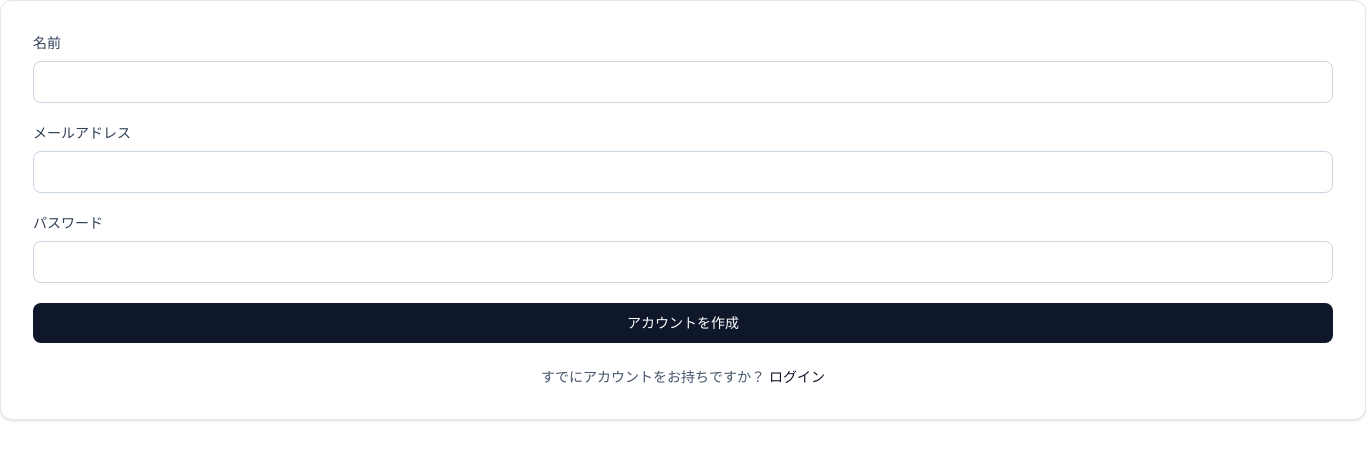
Test: RegisterForm › 無効なメールアドレスを拒否する
Type "テストユーザー" into the field labelled "名前" at (683, 82), box [33,61,1333,103]
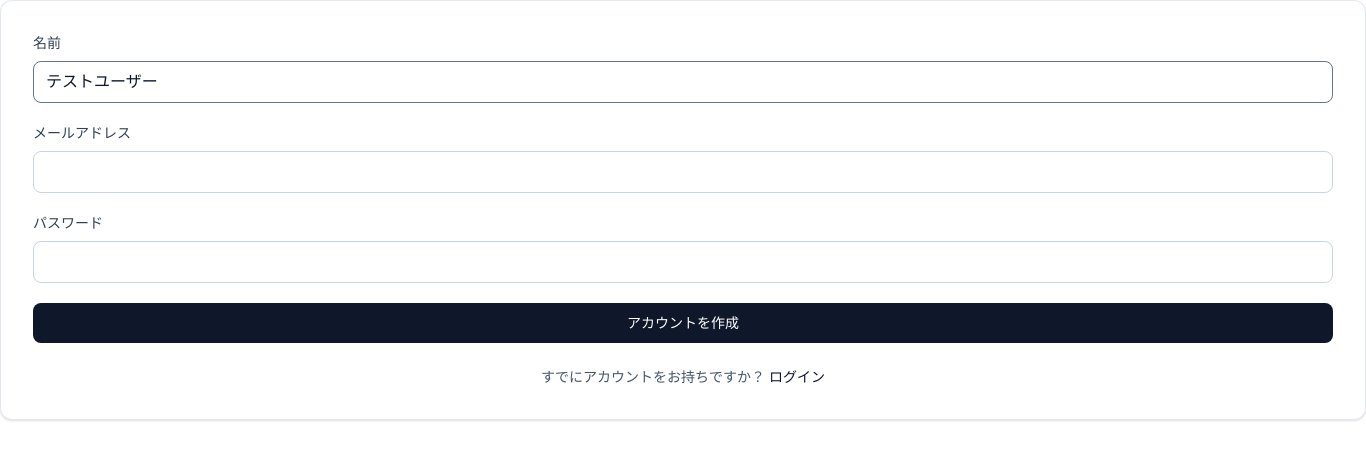
Type "invalid-email" into the field labelled "メールアドレス" at (683, 172), box [33,151,1333,193]
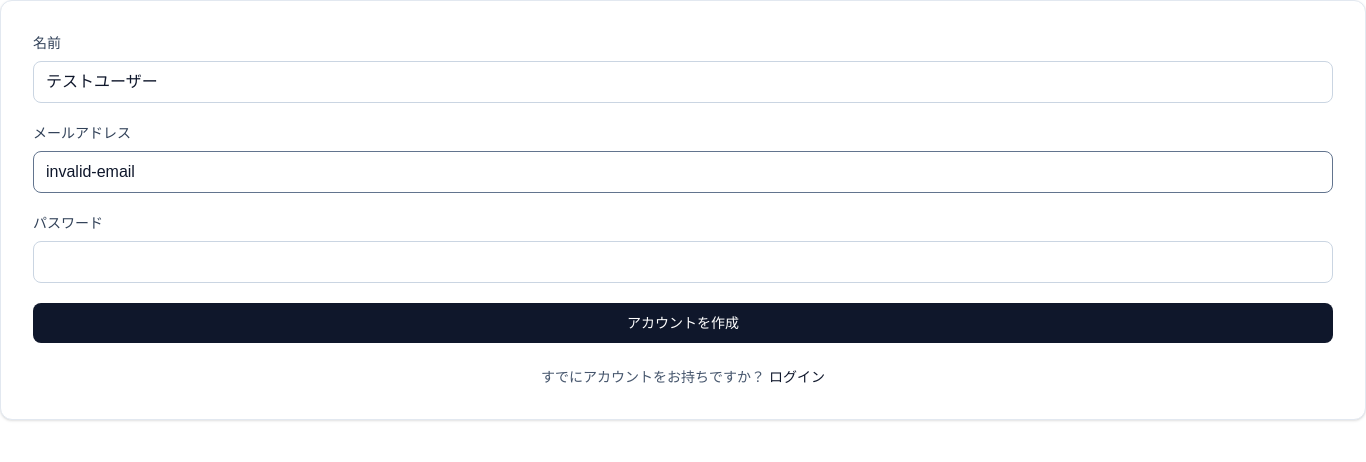
Type "password123" into the password field labelled "パスワード" at (683, 262), box [33,241,1333,283]
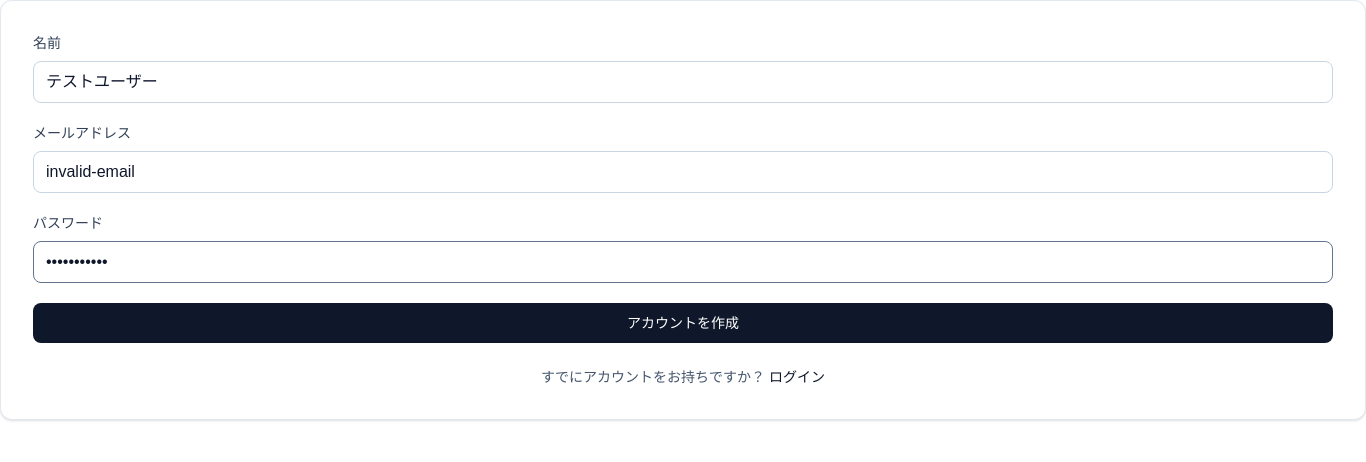
Click the button "アカウントを作成" at (683, 323), box [33,303,1333,343]
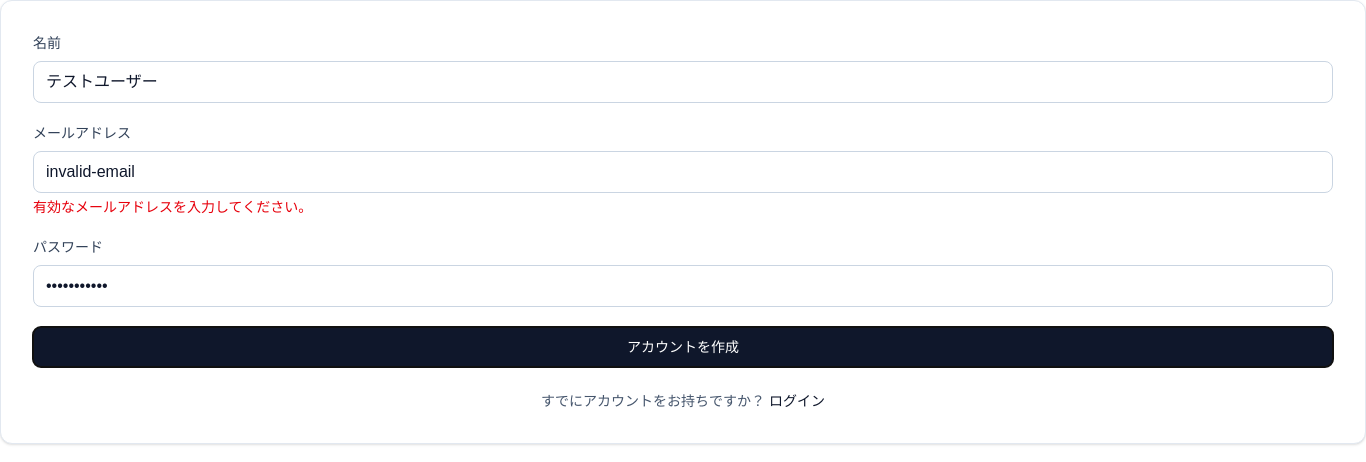
Expected: the text "有効なメールアドレスを入力してください。" is shown, [33,199,312,215]
